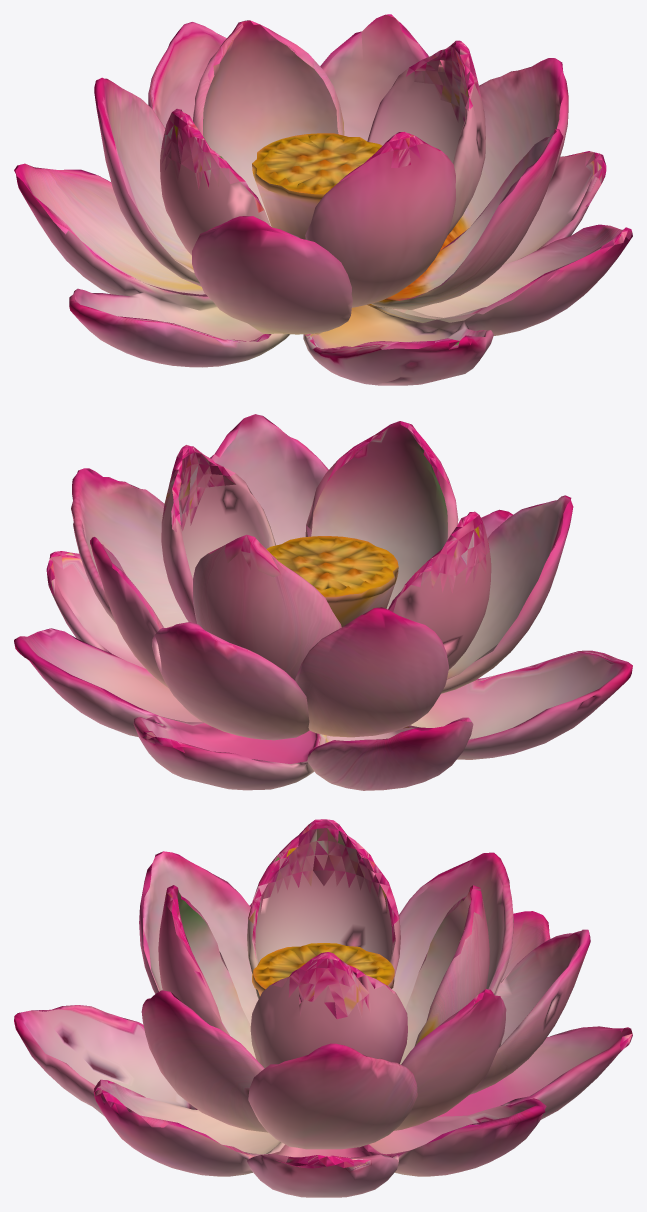
3 views of the same model, one above another, from view 1: azimuth 30°, elevation 25°; view 2: azimuth 150°, elevation 25°; view 3: azimuth 270°, elevation 25° (orthographic). The views are drawn at different scales.
Visible parts, largest first — view 1: fe02934e; view 2: fe02934e; view 3: fe02934e.
Part boxes in pixels (x1,y1,x2,y2): fe02934e: (14, 14, 632, 385); fe02934e: (14, 414, 632, 790); fe02934e: (14, 819, 632, 1197).
Bounding box in the file's own units: 0.1337 × 0.055 × 0.1331.
1 material, 1 textured.
